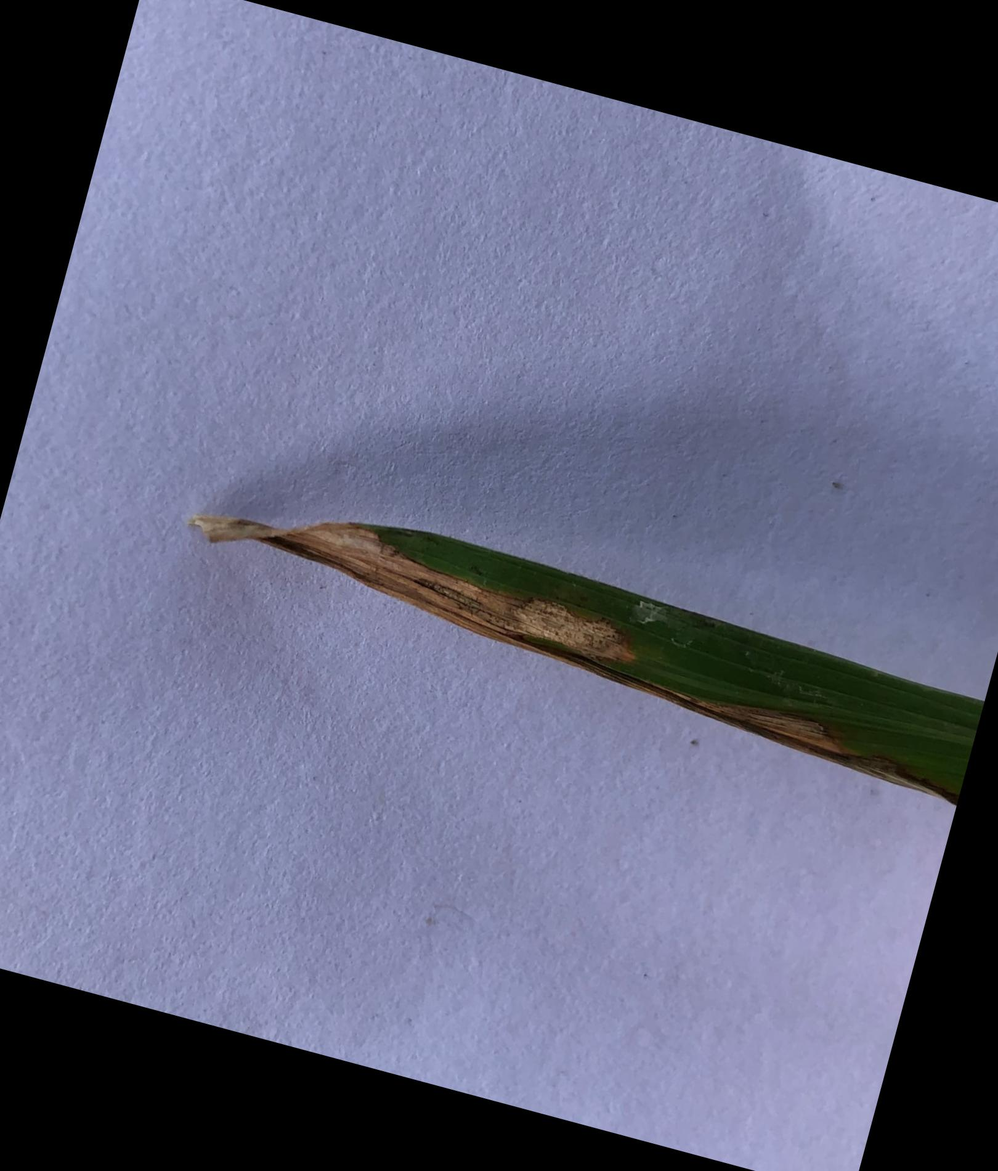Leaf Blight: (192, 515, 958, 807)
